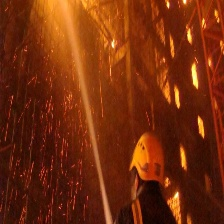fire: (190, 56, 202, 92), (173, 186, 181, 203)
